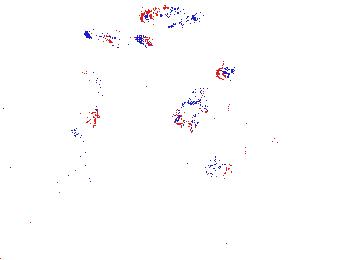X-ray fish: (309, 207, 324, 230)
red belly glassfish: (138, 5, 202, 30), (204, 160, 236, 180), (215, 67, 233, 80)
redtail glassfish: (82, 24, 150, 51), (171, 88, 207, 125)
